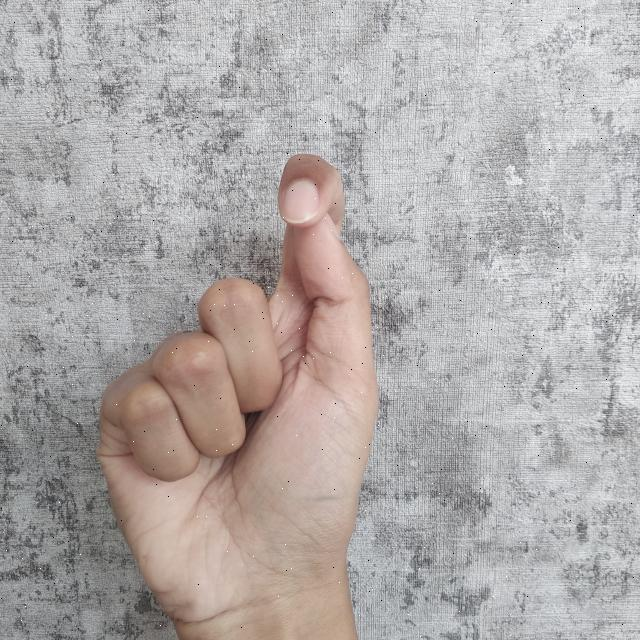T: (90, 148, 392, 640)
